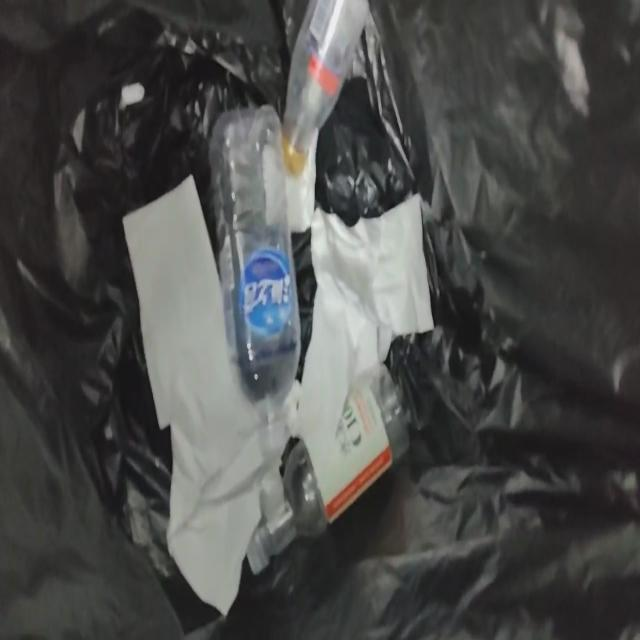bottle: (247, 361, 411, 577), (211, 107, 301, 450), (282, 0, 369, 178)
paper: (124, 177, 282, 613), (283, 193, 434, 480), (286, 133, 318, 232), (263, 471, 284, 528), (284, 380, 302, 435)
